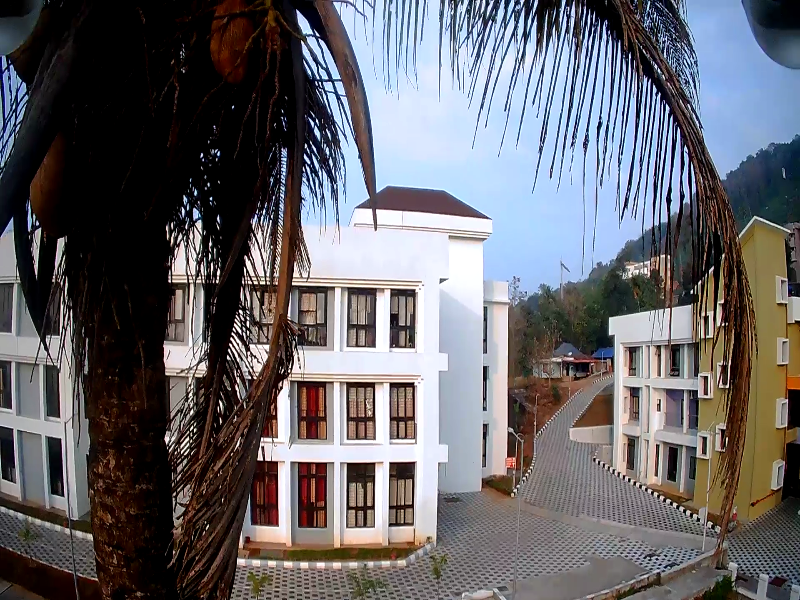coconut: (17, 124, 92, 238), (207, 12, 280, 82)
